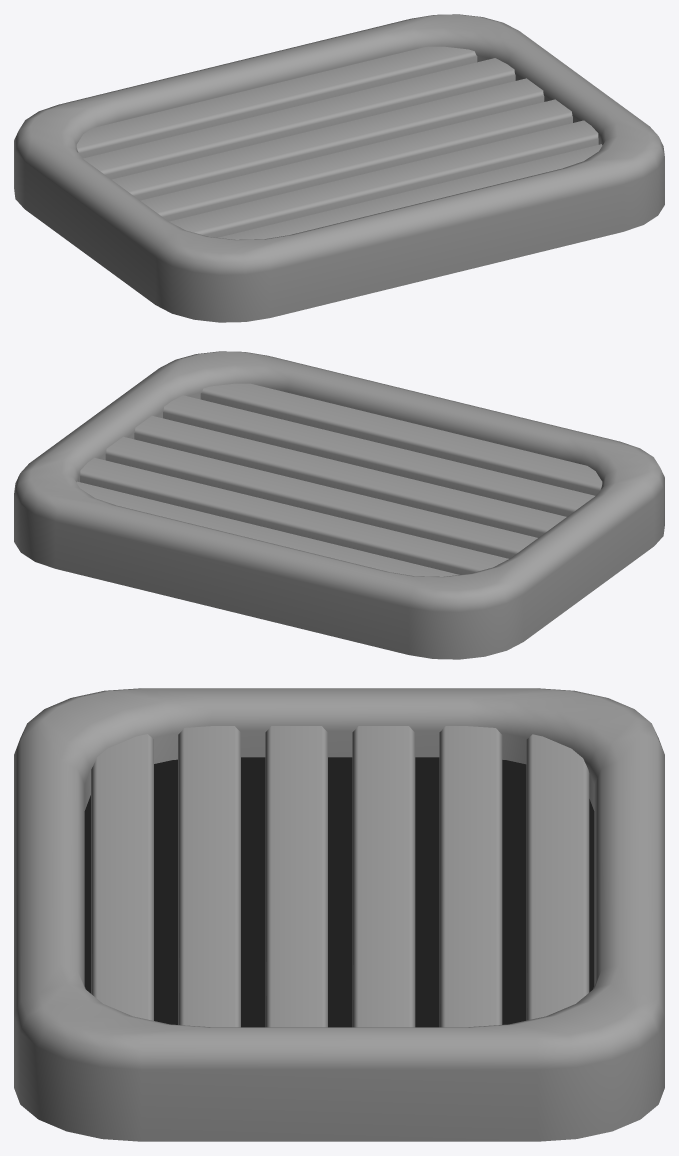
File: City_10_Drain_hatch_1.glb
The picture shows the model from 3 angles, top to bottom: view 1: azimuth 30°, elevation 25°; view 2: azimuth 150°, elevation 25°; view 3: azimuth 270°, elevation 25°; orthographic projection. The views are drawn at different scales.
Parts seen in each view (by area): view 1: City_10_Drain_hatch_1; view 2: City_10_Drain_hatch_1; view 3: City_10_Drain_hatch_1.
Boxes of the visible parts, bbox=[...] form: City_10_Drain_hatch_1: bbox=[14, 14, 664, 322]; City_10_Drain_hatch_1: bbox=[14, 351, 664, 659]; City_10_Drain_hatch_1: bbox=[14, 688, 664, 1141].
Bounding box in the file's own units: 1.65 × 0.1962 × 1.23.
Materials: 1 (1 with a texture image).
